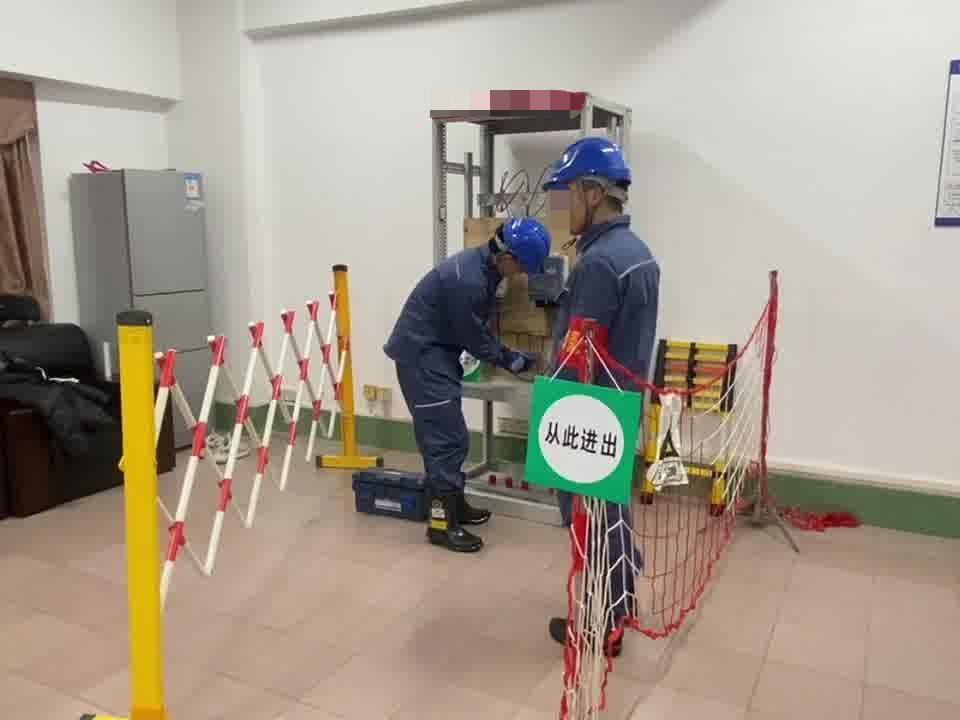halt: (545, 138, 637, 232), (495, 219, 555, 284)
inear: (577, 179, 613, 219), (495, 247, 520, 272)
